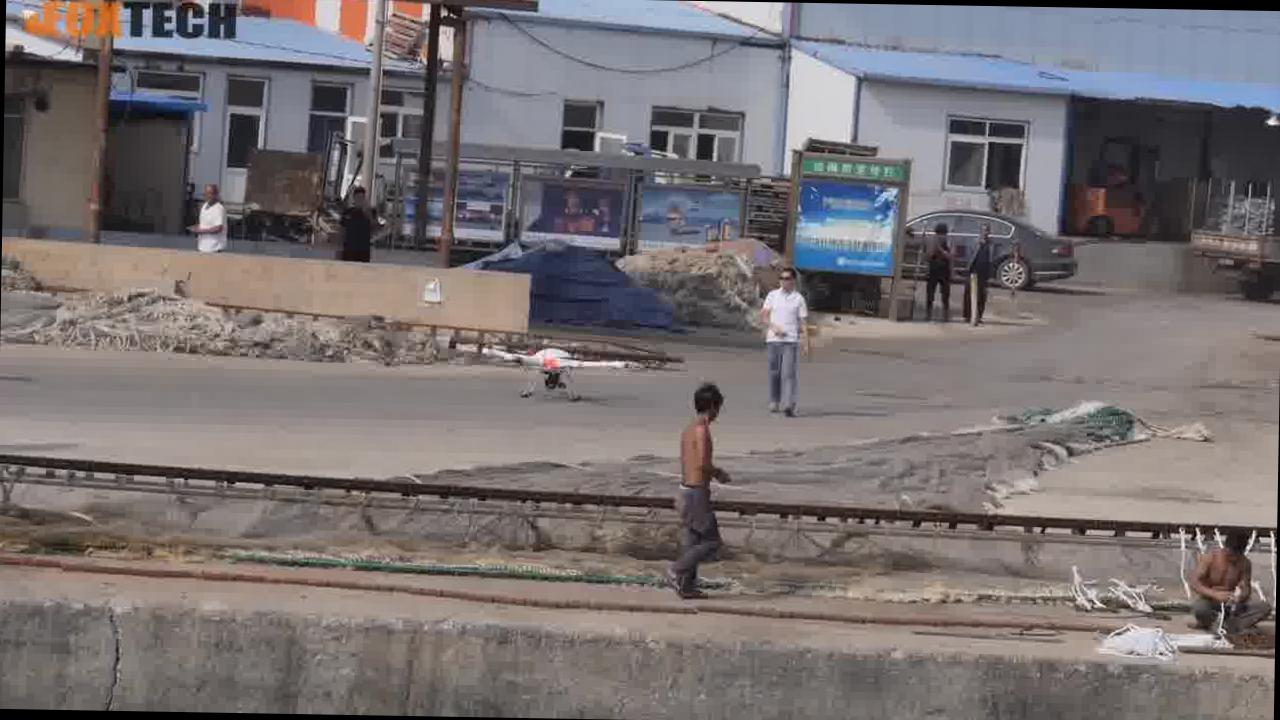drone: (470, 335, 646, 400)
